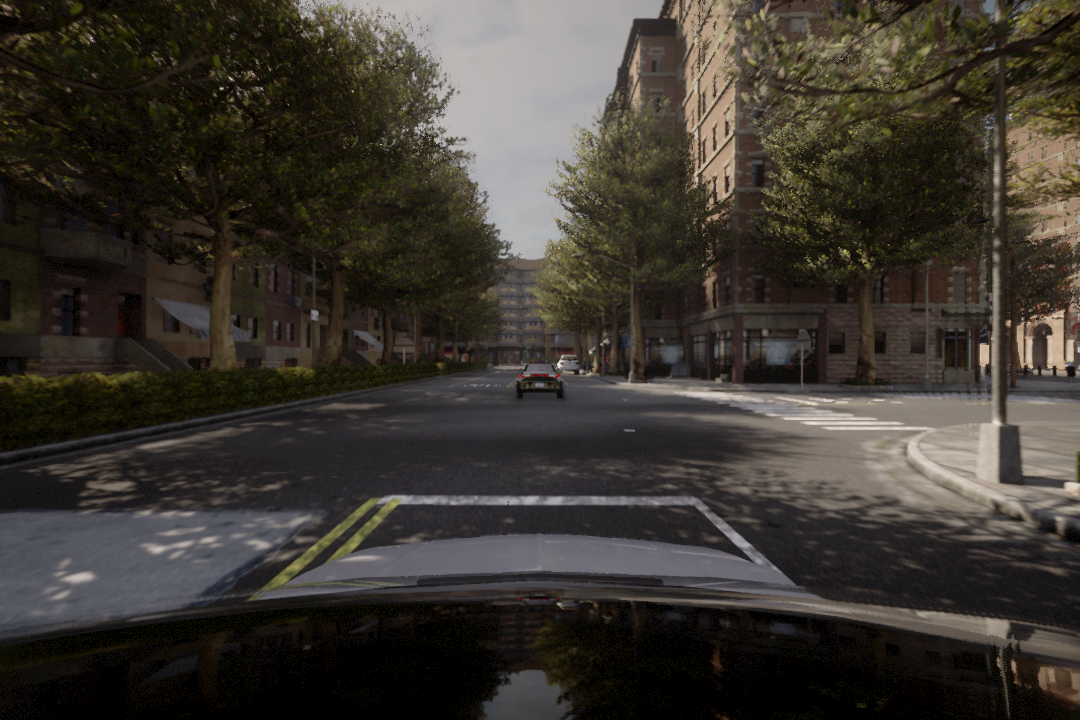walkside: (681, 393, 923, 434)
